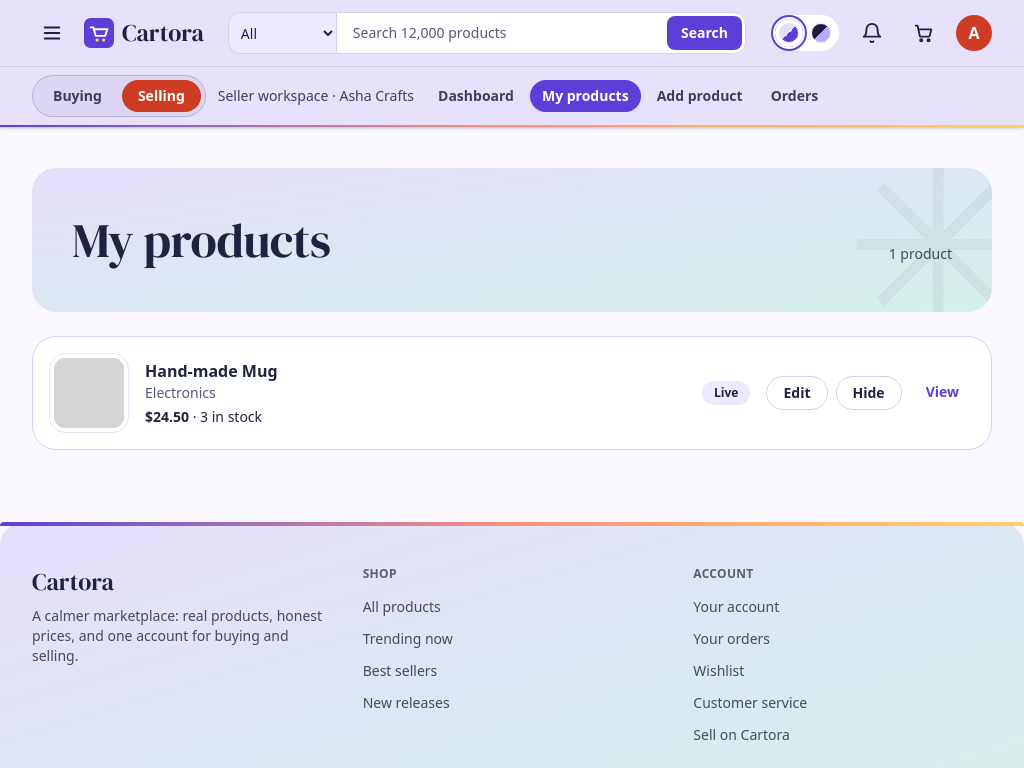
Test: seller workspace › lists products and hides one after the server confirms
Expected: the text "Hand-made Mug" is shown, [145, 360, 278, 382]
Expected: the text "$24.50 · 3 in stock" is shown, [145, 407, 262, 426]
Click the button with aria-label "Hide Hand-made Mug".
click(869, 393)  # box [836, 376, 902, 410]
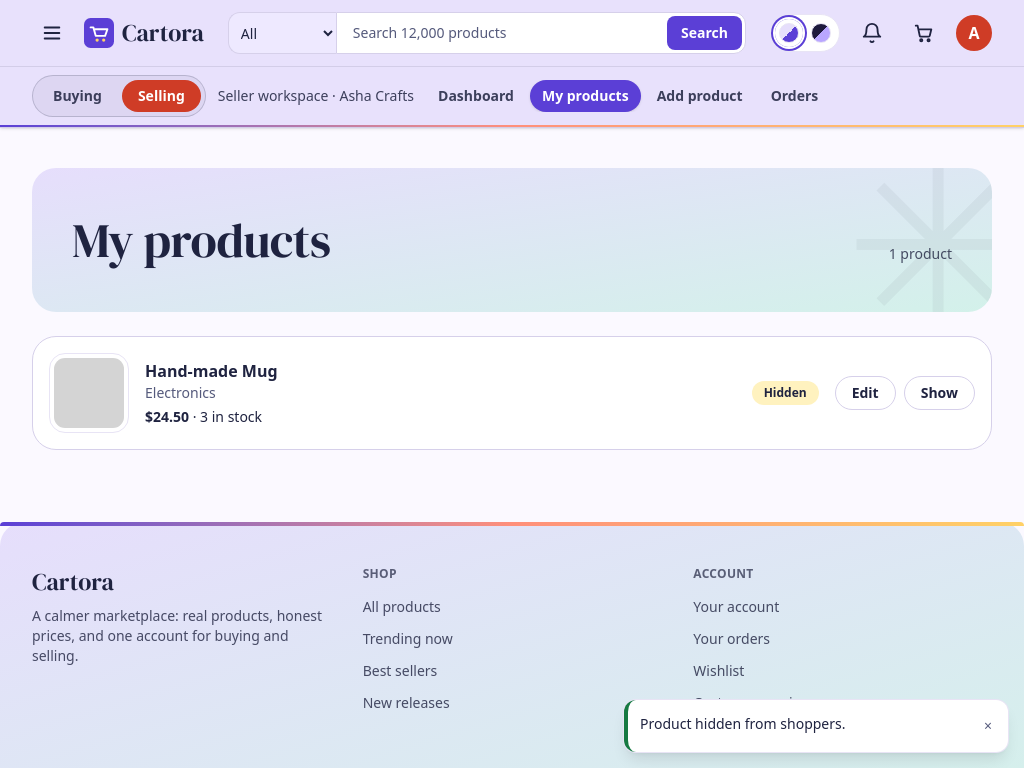
Now the text "Product hidden from shoppers." is shown, box [640, 714, 846, 733]
Now the text "Hidden" is shown, box [752, 381, 819, 405]
